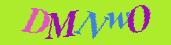D: (20, 7, 49, 33)
M: (44, 10, 79, 39)
N: (73, 11, 110, 38)
O: (127, 5, 150, 32)
w: (107, 12, 130, 28)
